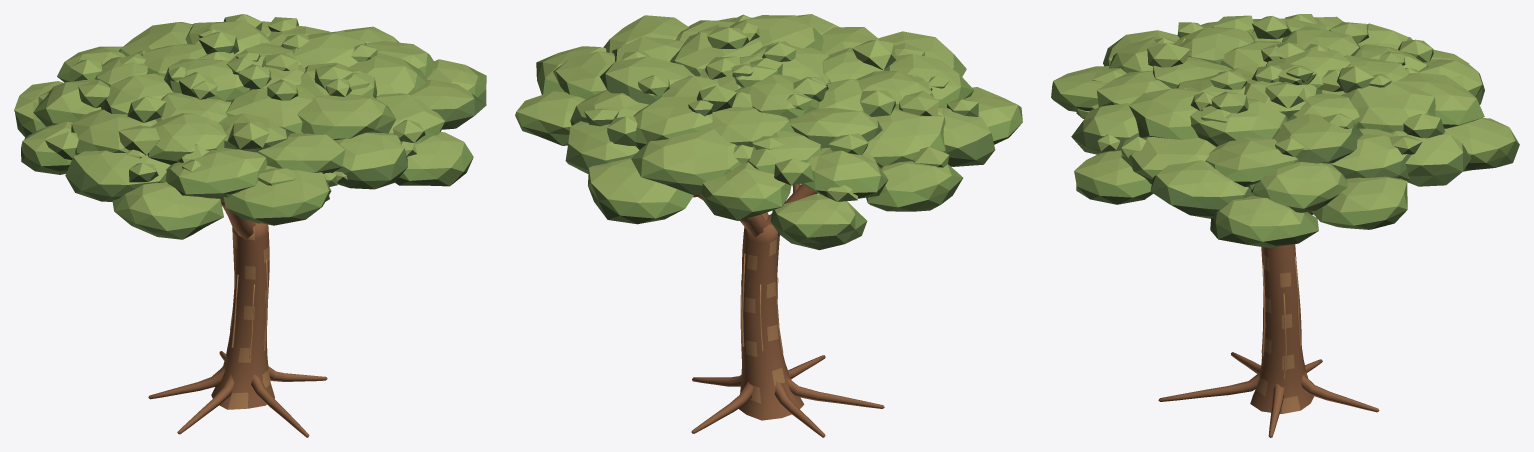
File: a01_acacia_tree_med.glb
3 renders of one model, left to right at view 1: azimuth 30°, elevation 25°; view 2: azimuth 150°, elevation 25°; view 3: azimuth 270°, elevation 25°, orthographic. The views are drawn at different scales.
Visible parts, largest first — view 1: A01_med_Canopy_Left, A01_med_Canopy_Right, A01_med_Canopy_Center, A01_med_Trunk_and_Branches; view 2: A01_med_Canopy_Left, A01_med_Canopy_Center, A01_med_Canopy_Right, A01_med_Trunk_and_Branches; view 3: A01_med_Canopy_Right, A01_med_Canopy_Center, A01_med_Canopy_Left, A01_med_Trunk_and_Branches.
Part boxes in pixels (<box>): A01_med_Canopy_Left: <box>14,46,331,239</box>; A01_med_Canopy_Right: <box>223,14,486,186</box>; A01_med_Canopy_Center: <box>119,20,407,201</box>; A01_med_Trunk_and_Branches: <box>148,199,327,437</box>; A01_med_Canopy_Left: <box>699,31,1022,250</box>; A01_med_Canopy_Center: <box>588,14,889,224</box>; A01_med_Canopy_Right: <box>515,14,823,174</box>; A01_med_Trunk_and_Branches: <box>691,184,884,437</box>; A01_med_Canopy_Right: <box>1074,87,1471,247</box>; A01_med_Canopy_Center: <box>1071,42,1519,171</box>; A01_med_Canopy_Left: <box>1051,14,1484,111</box>; A01_med_Trunk_and_Branches: <box>1158,211,1379,437</box>.
Size of the model in its own units: 7.25 by 5.37 by 6.69.
